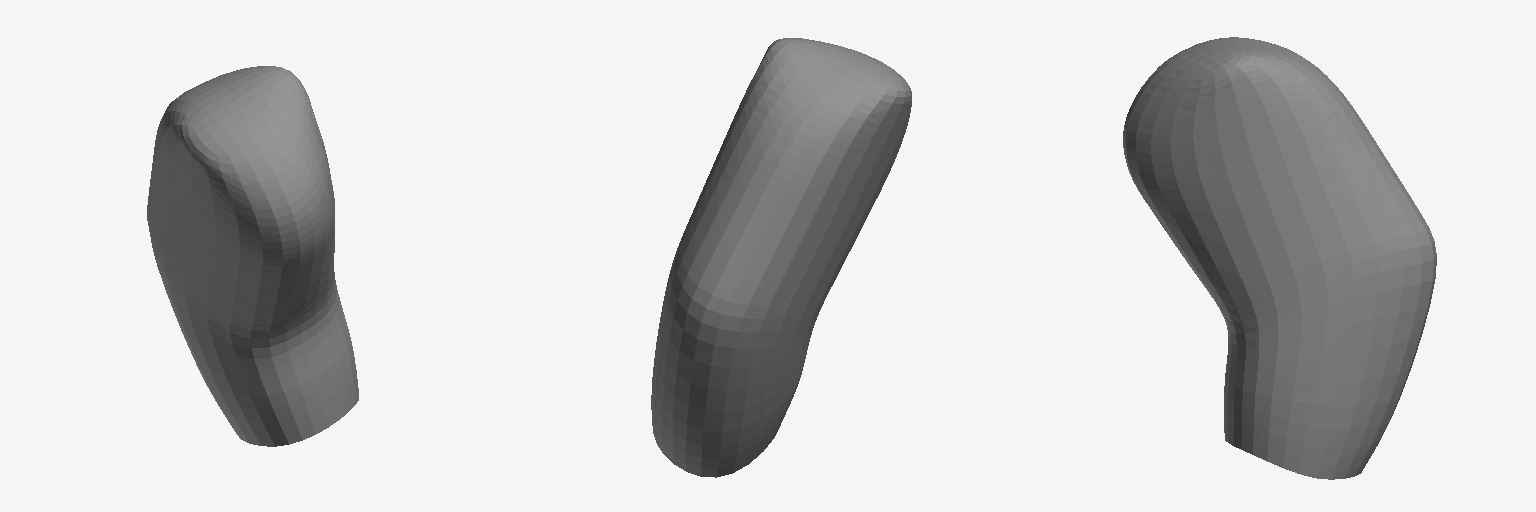
Rendered from BrazoIzq.obj.
3 renders of one model, left to right at view 1: azimuth 30°, elevation 25°; view 2: azimuth 150°, elevation 25°; view 3: azimuth 270°, elevation 25°, orthographic.
Parts seen in each view (by area): view 1: BrazoIzq; view 2: BrazoIzq; view 3: BrazoIzq.
Boxes of the visible parts, x1,y1,x2,y2 form: BrazoIzq: [147, 66, 358, 446]; BrazoIzq: [651, 38, 911, 477]; BrazoIzq: [1123, 37, 1436, 479].
Size of the model in its own units: 8.82 by 16.8 by 11.95.